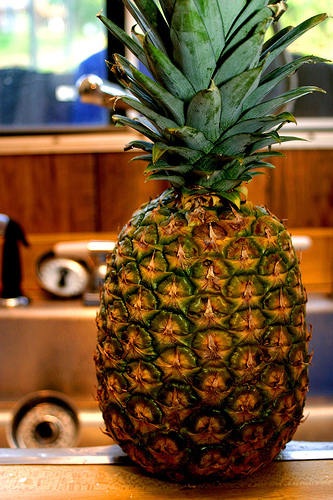pineapple: (90, 0, 329, 487)
